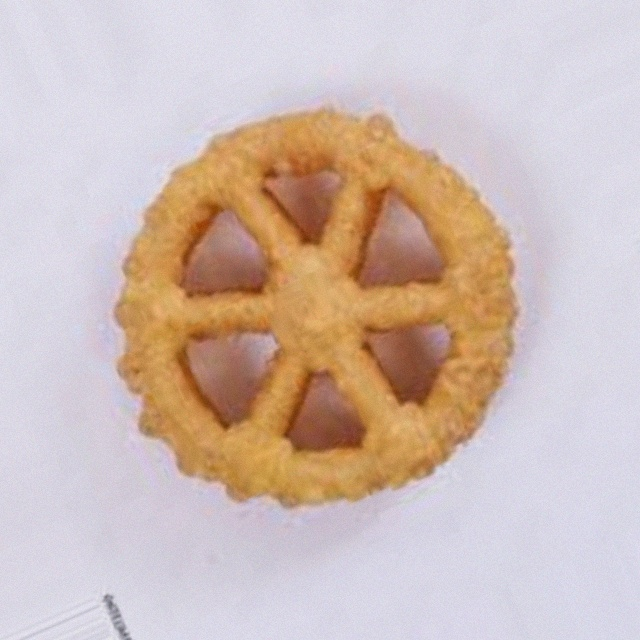Kokis: (97, 111, 543, 529)
